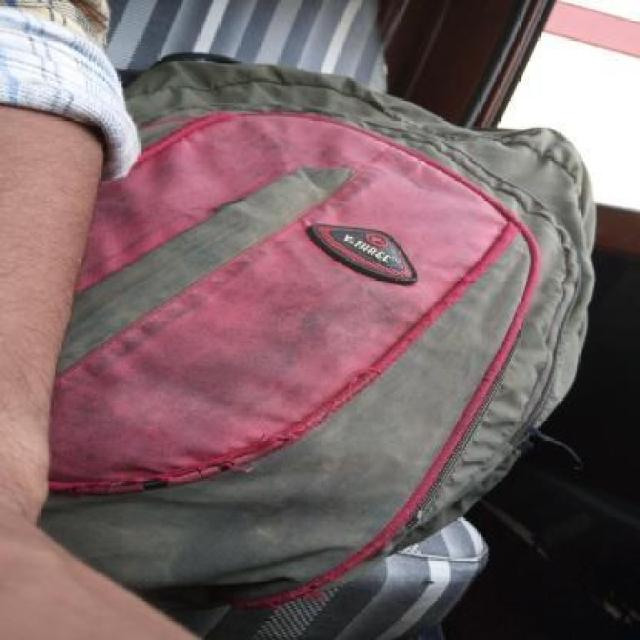backpack: (55, 49, 603, 614)
